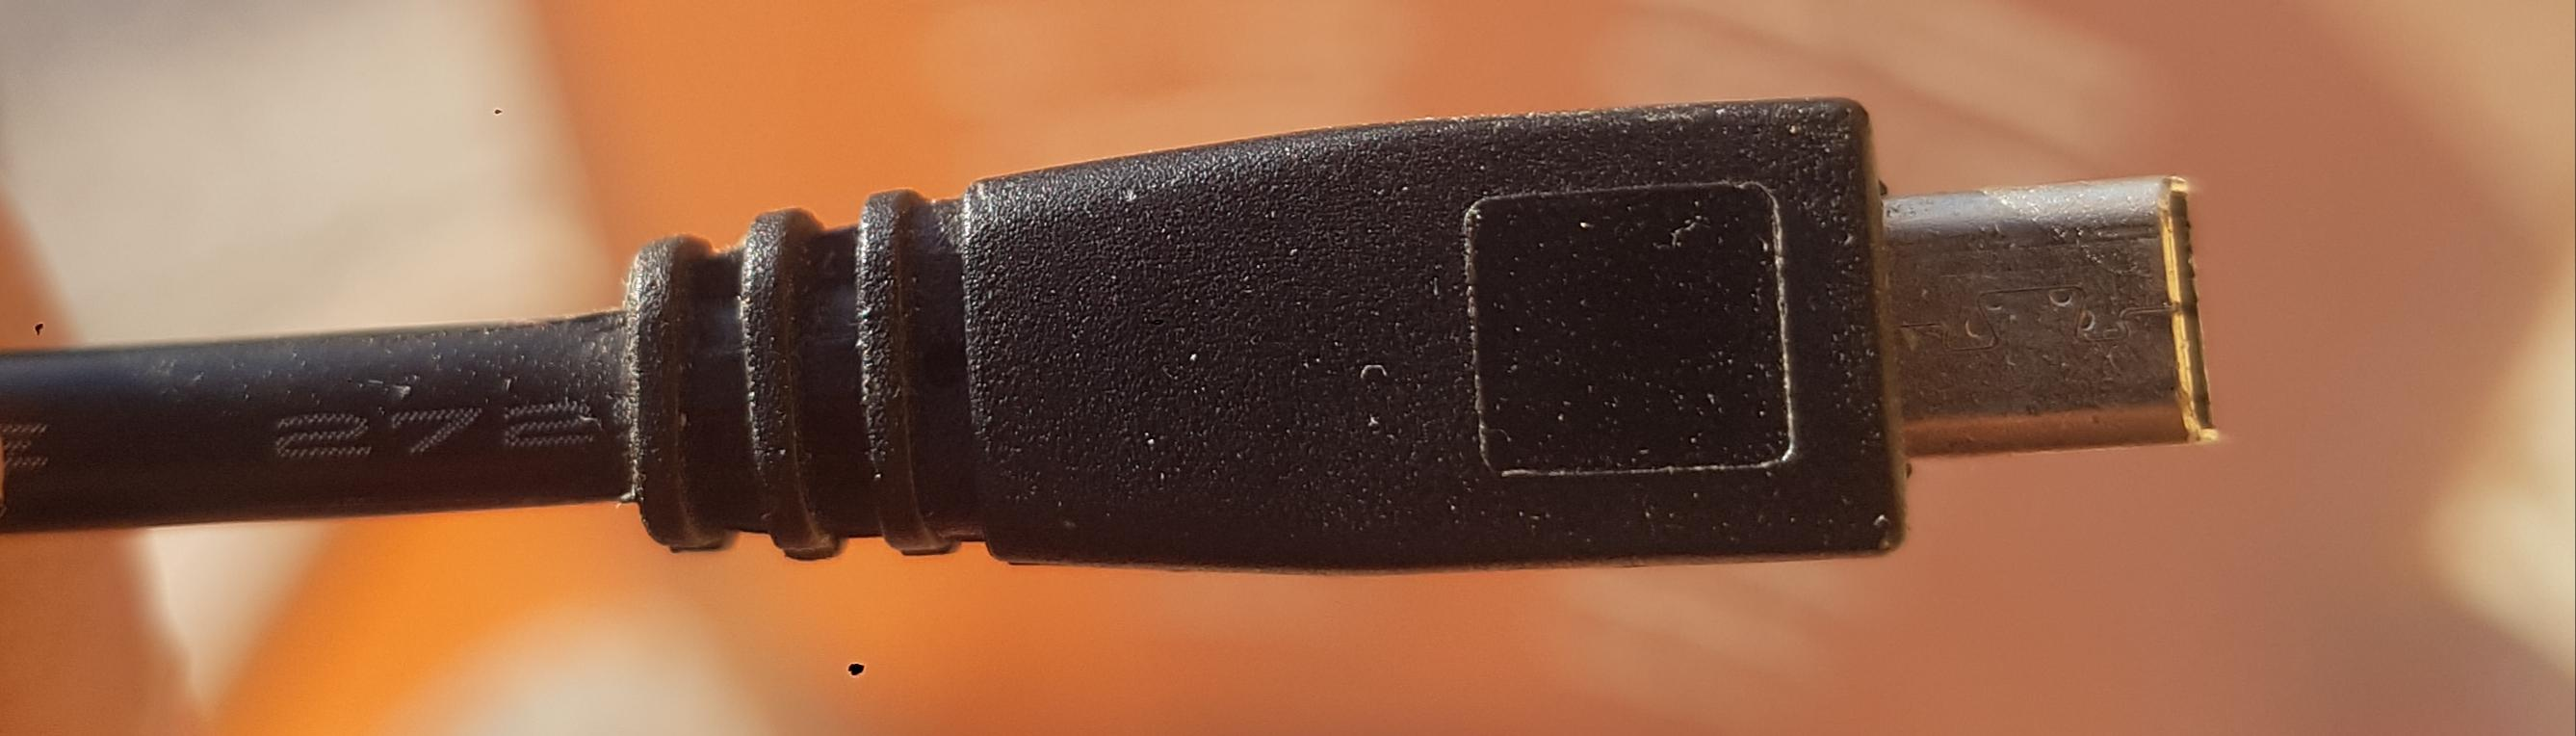electronic: (0, 108, 2127, 600)
